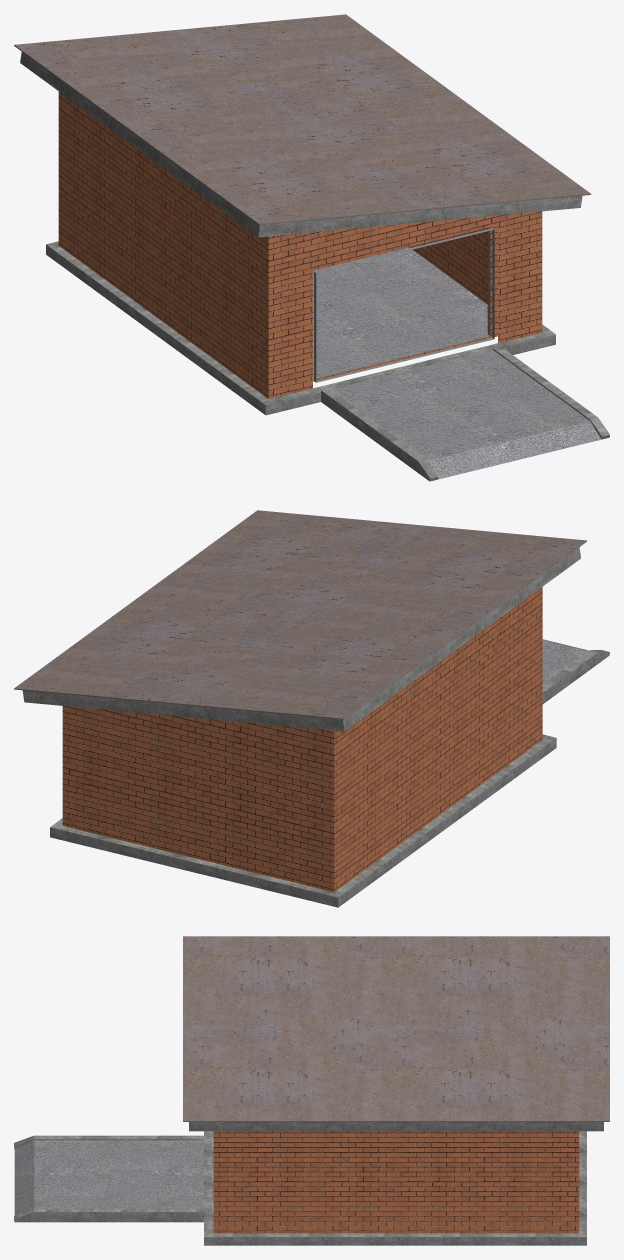
Rendered from garage_without_door.obj.
The picture shows the model from 3 angles, top to bottom: view 1: azimuth 30°, elevation 25°; view 2: azimuth 150°, elevation 25°; view 3: azimuth 270°, elevation 25°; orthographic projection. The views are drawn at different scales.
Parts seen in each view (by area): view 1: garage.005, garage.003, garage.001, garage.002; view 2: garage.003, garage.005, garage.002, garage.001; view 3: garage.005, garage.003, garage.002, garage.001.
Boxes of the visible parts, x1,y1,x2,y2 form: garage.005: (14,14,591,225); garage.003: (58,91,542,398); garage.001: (313,227,601,479); garage.002: (20,52,609,481); garage.003: (62,587,542,892); garage.005: (14,510,586,719); garage.002: (22,547,609,907); garage.001: (542,639,588,684); garage.005: (183,936,609,1121); garage.003: (213,1131,579,1233); garage.002: (14,1122,603,1245); garage.001: (14,1140,203,1215).
Size of the model in its own units: 6.62 by 3.9 by 11.81.
5 materials, 5 textured.
